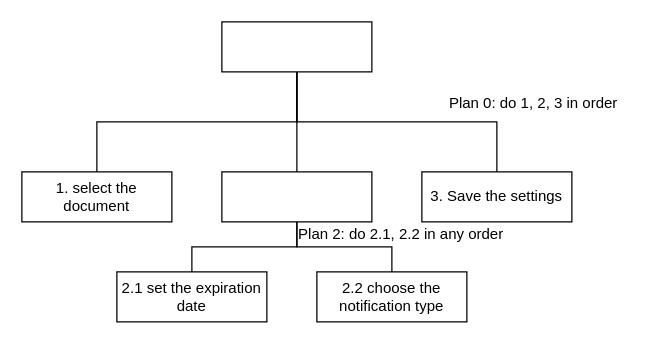
This 668x344 diagram has some shape labels left out. Each missing label, with the box of its shape:
0. set document notification: (221, 21, 372, 72)
2. Fill the document expiration: (221, 171, 372, 222)
